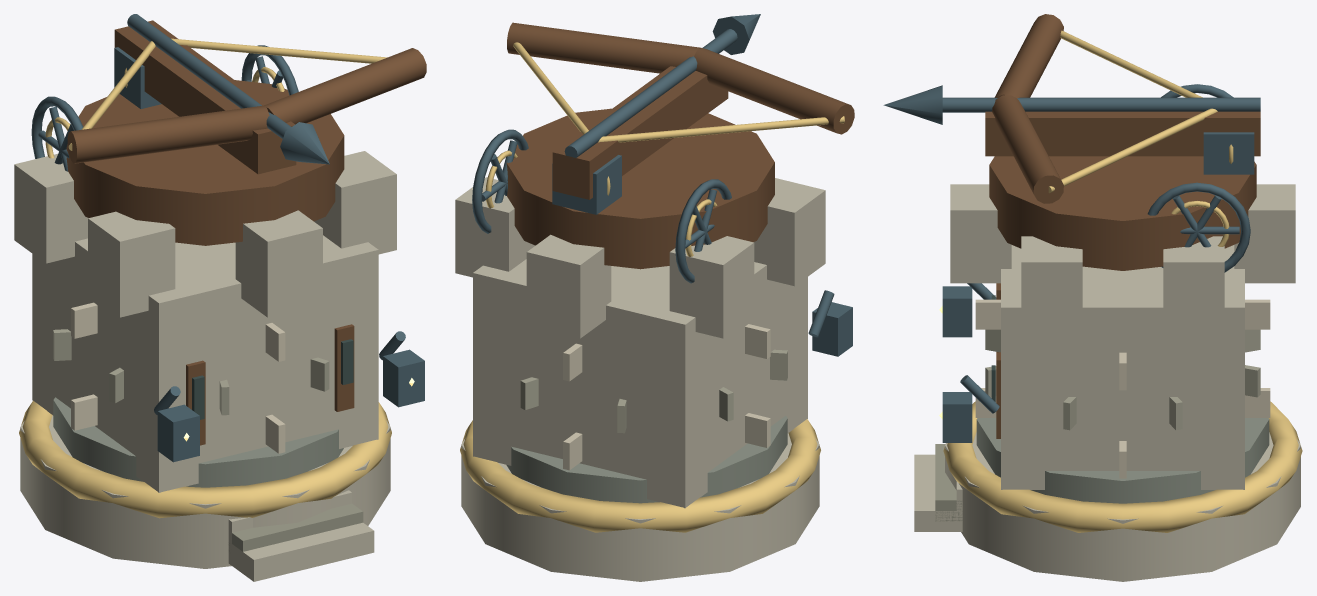
File: tower-ballista-1-base.glb
3 views of the same model, side by side, from view 1: azimuth 30°, elevation 25°; view 2: azimuth 150°, elevation 25°; view 3: azimuth 270°, elevation 25° (orthographic). The views are drawn at different scales.
Visible parts, largest first — view 1: Foundation, Turret, ballista-L1-base; view 2: Foundation, Turret, ballista-L1-base; view 3: Foundation, Turret, ballista-L1-base.
Boxes of the visible parts, x1,y1,x2,y2 form: Foundation: (14, 151, 424, 581); Turret: (31, 14, 426, 245); ballista-L1-base: (20, 397, 390, 568); Foundation: (455, 177, 852, 532); Turret: (472, 14, 854, 283); ballista-L1-base: (461, 416, 819, 581); Foundation: (914, 184, 1302, 532); Turret: (883, 14, 1260, 272); ballista-L1-base: (945, 418, 1300, 581).
Size of the model in its own units: 1.83 by 2.19 by 1.98.
